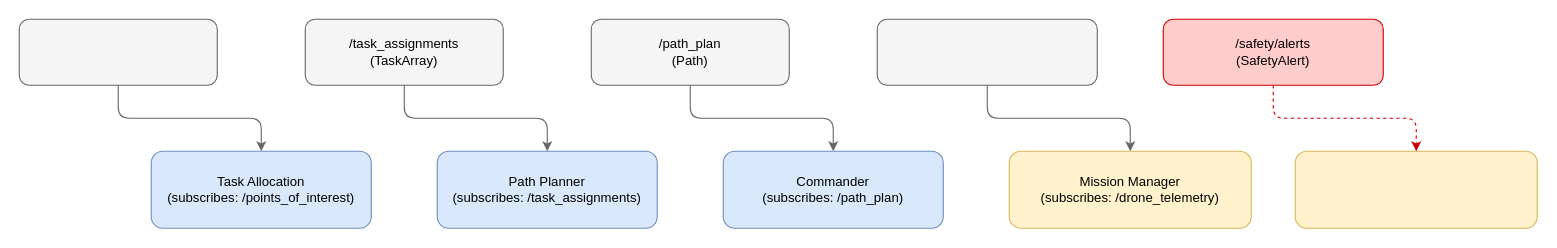
The diagram is 1557 pixels wide and 248 high, and some of its shapes have lost their labels. The shapes that lost their labels are listed below. From the top down, each one's centre as x and y in pixels, then its label:
At (x=117, y=51): "/points_of_interest (POIArray)".
At (x=986, y=51): "/drone_telemetry (DroneTelemetry)".
At (x=1415, y=189): "Commander (interrupted by /safety/alerts)".
